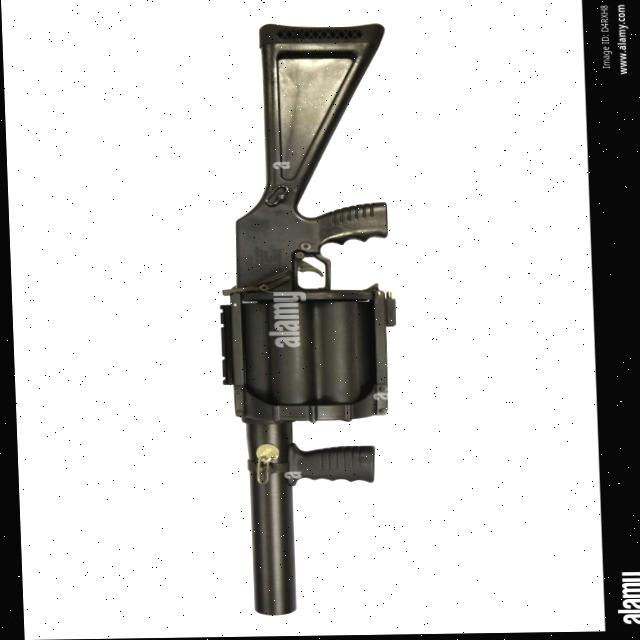rocket: (207, 23, 402, 619)
